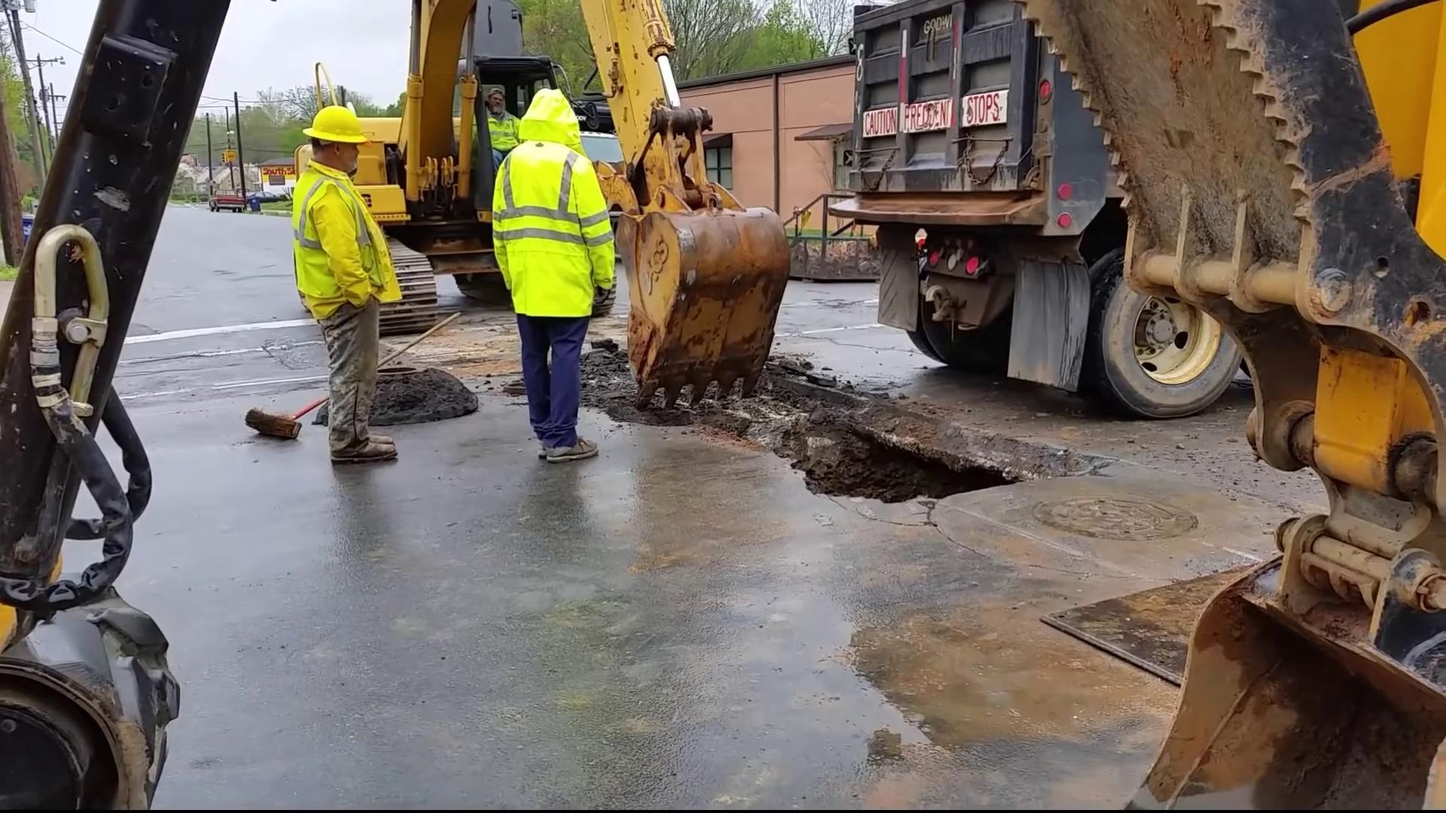apron: (587, 276, 617, 320)
